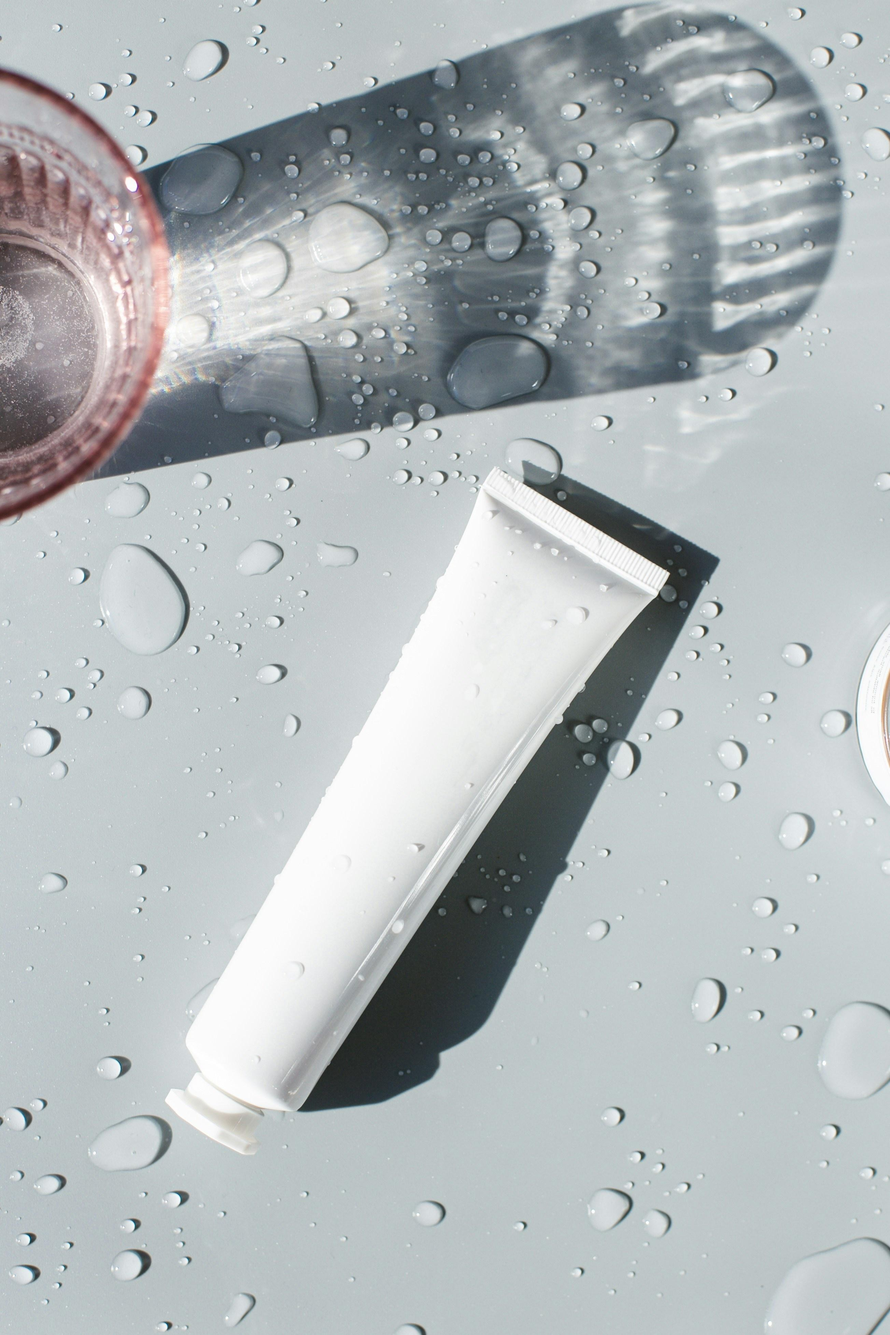Bottle-Detection: (3, 38, 205, 574)
